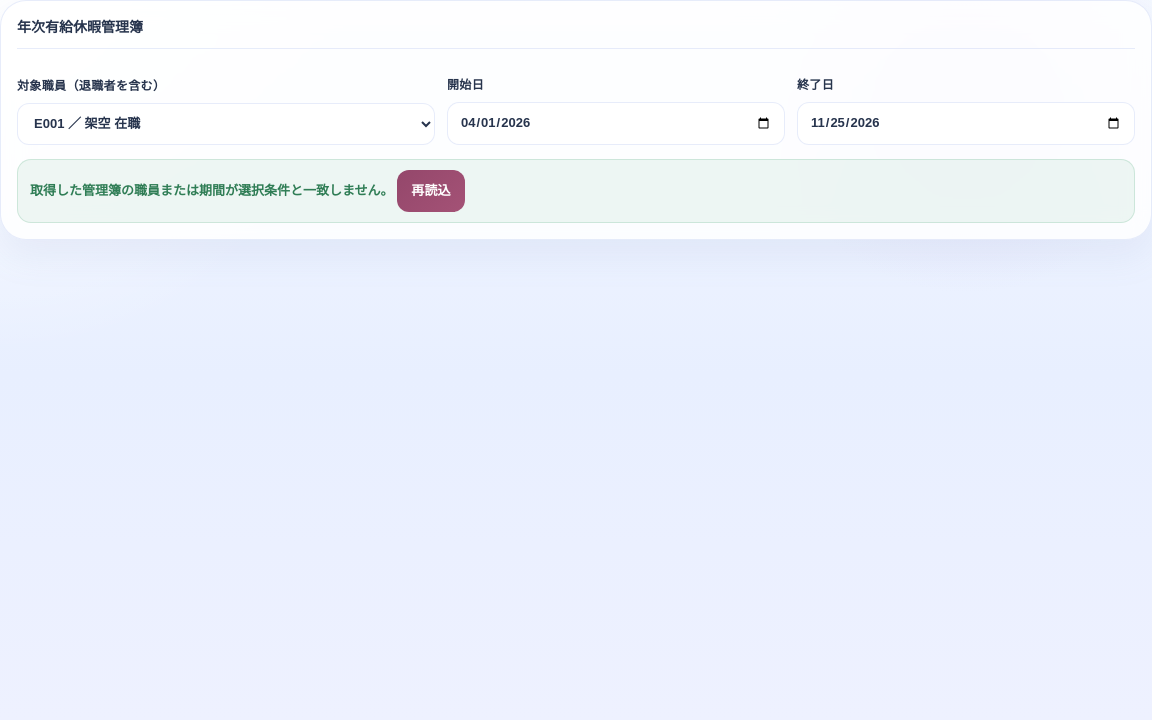
年次有給休暇管理簿 › 条件の異なる応答を拒否し、読込失敗の再試行で現在の条件を使う
Check: the message shows "選択条件と一致しません", box [30,183,394,198]
Check: the button "管理簿を印刷" is not shown
Click the button "再読込".
click(431, 191)  # box [397,170,465,212]
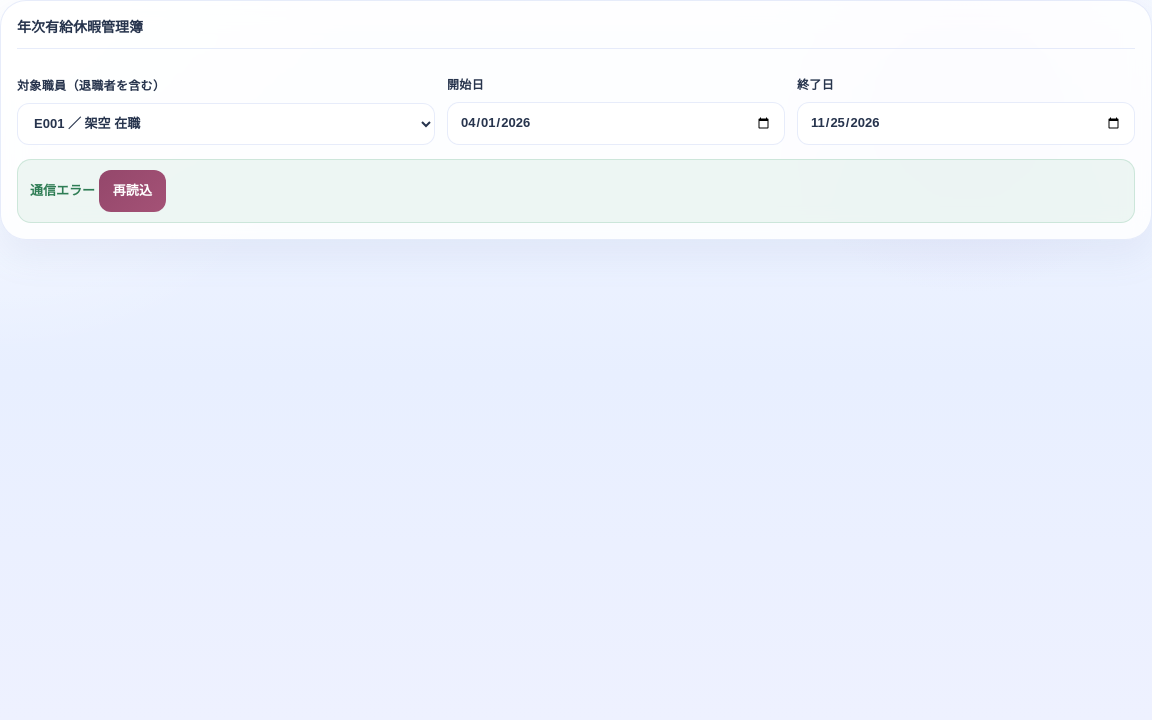
Check: the message shows "通信エラー", box [30,183,95,198]
Click the button "再読込".
click(132, 191)  # box [99,170,166,212]
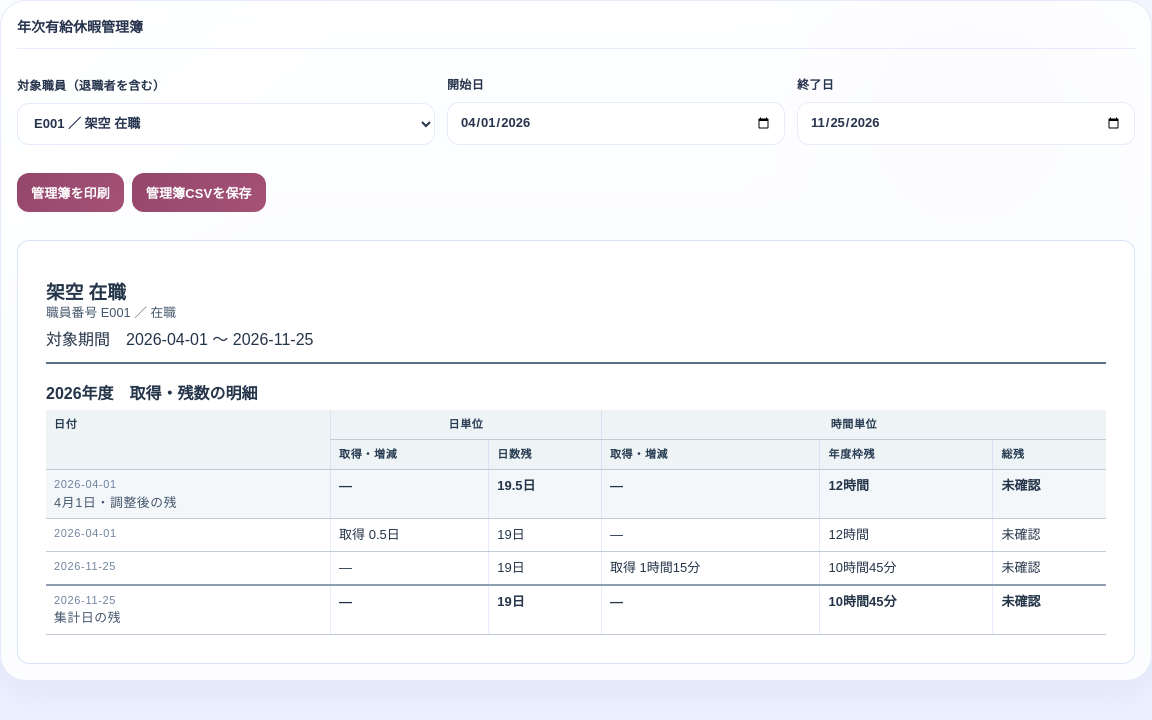
Check: the element named "架空 在職の年次有給休暇管理簿" is shown, box [17,240,1135,664]
